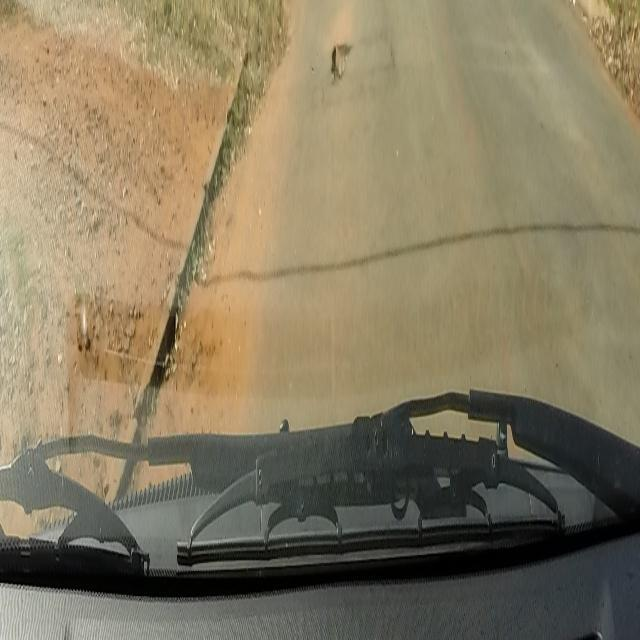pothole: (330, 38, 354, 82)
